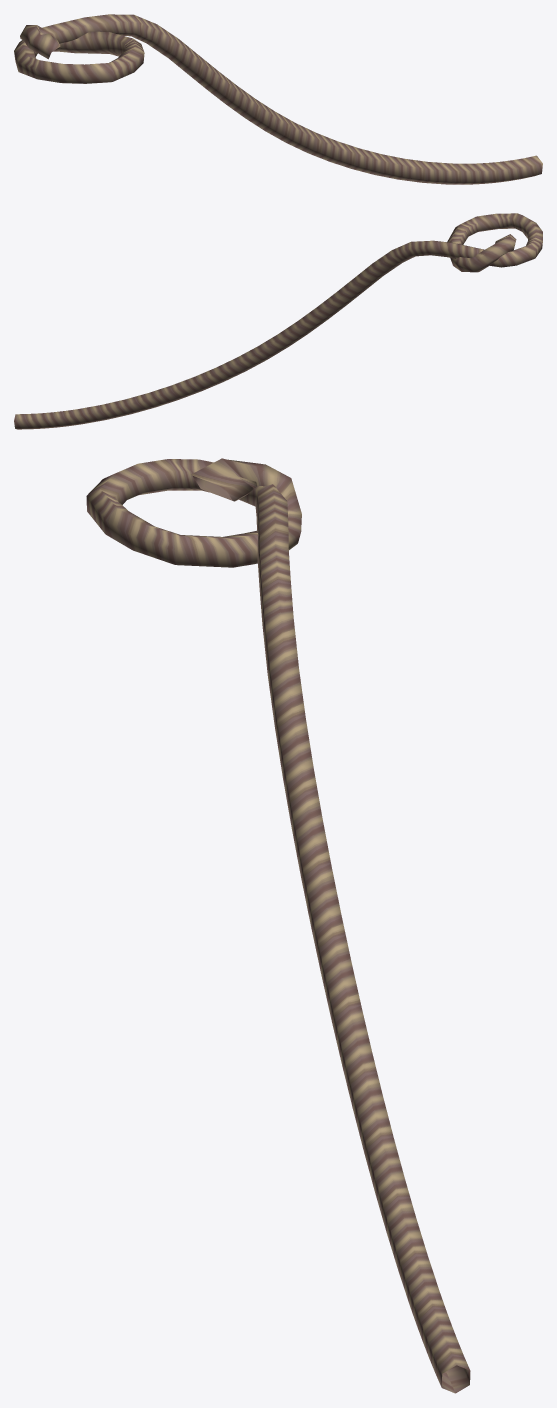
Rendered from hangingRope_mesh.fbx.
The picture shows the model from 3 angles, top to bottom: view 1: azimuth 30°, elevation 25°; view 2: azimuth 150°, elevation 25°; view 3: azimuth 270°, elevation 25°; orthographic projection. The views are drawn at different scales.
Visible parts, largest first — view 1: hangingRope_mesh; view 2: hangingRope_mesh; view 3: hangingRope_mesh.
Boxes of the visible parts, left/top/right/bottom form: hangingRope_mesh: left=14, top=14, right=542, bottom=184; hangingRope_mesh: left=14, top=213, right=542, bottom=429; hangingRope_mesh: left=86, top=458, right=470, bottom=1393.
Size of the model in its own units: 4.41 by 2.36 by 1.6.
